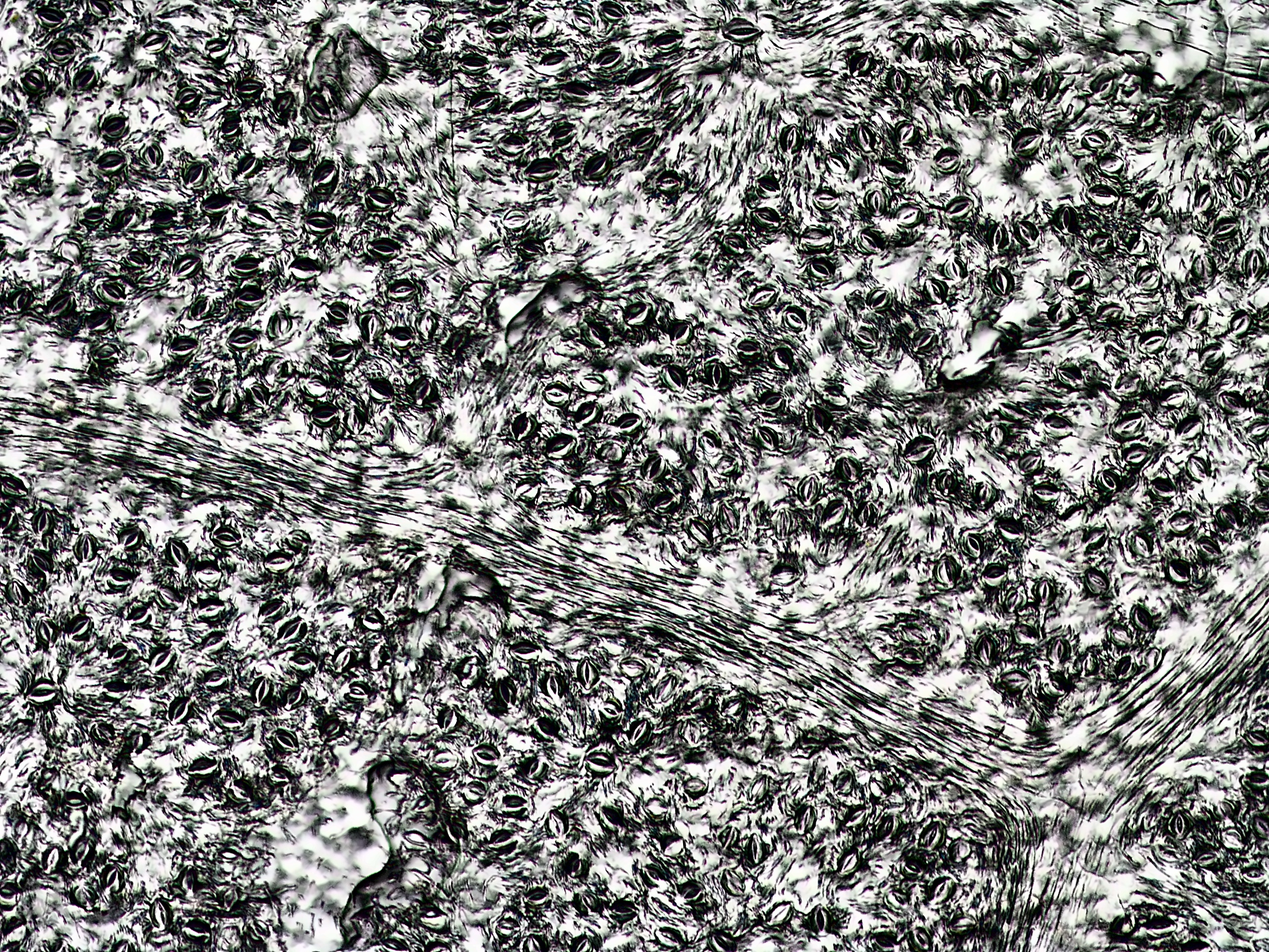stomata: (799, 225, 835, 253), (903, 435, 935, 466), (722, 18, 762, 42), (1011, 127, 1043, 157), (457, 654, 484, 689), (522, 158, 561, 182), (980, 69, 1009, 101), (999, 666, 1031, 695), (193, 597, 227, 624), (415, 907, 449, 934), (583, 749, 617, 776), (933, 556, 962, 587), (537, 670, 568, 699), (1033, 69, 1061, 101), (544, 433, 577, 460), (820, 499, 847, 532), (705, 358, 730, 393), (542, 380, 573, 408), (364, 187, 398, 212), (70, 835, 95, 869), (580, 320, 608, 350), (919, 821, 946, 852), (312, 161, 338, 193), (1199, 343, 1225, 375), (288, 257, 324, 280), (115, 524, 144, 552), (278, 616, 307, 644), (122, 726, 150, 755), (927, 877, 955, 906), (319, 714, 346, 744), (905, 32, 931, 63), (1052, 204, 1078, 235), (988, 265, 1014, 296), (779, 123, 805, 154), (512, 411, 538, 442), (570, 482, 596, 513), (385, 279, 420, 302), (598, 0, 630, 25), (772, 508, 796, 541), (1112, 413, 1145, 437), (932, 147, 960, 175), (660, 364, 688, 392), (331, 645, 358, 674), (575, 401, 602, 430), (649, 490, 678, 517), (457, 53, 491, 76), (24, 681, 58, 704), (266, 311, 292, 341), (248, 677, 274, 707), (428, 748, 458, 774), (359, 312, 384, 343), (257, 599, 288, 624), (1166, 809, 1191, 840), (836, 846, 861, 877), (627, 67, 662, 89), (34, 616, 58, 648), (228, 257, 261, 280), (149, 897, 172, 930), (797, 473, 820, 506), (809, 903, 832, 936), (367, 377, 395, 404), (148, 646, 176, 673), (806, 405, 833, 433), (583, 154, 612, 180), (173, 255, 202, 281), (264, 355, 293, 381), (1137, 330, 1167, 355), (73, 532, 98, 562), (182, 919, 212, 944), (470, 744, 500, 769), (597, 440, 627, 465), (1243, 247, 1265, 281), (577, 656, 599, 690), (810, 187, 841, 211), (410, 375, 434, 406), (209, 527, 240, 551), (42, 843, 66, 874), (100, 864, 124, 895), (492, 678, 516, 709), (564, 81, 596, 104), (47, 291, 74, 318), (641, 454, 668, 481), (1165, 559, 1192, 586), (271, 728, 299, 754), (438, 706, 464, 734), (834, 456, 862, 482), (1039, 673, 1067, 699), (1228, 169, 1250, 202), (213, 709, 246, 731), (547, 121, 576, 146), (1087, 183, 1116, 208), (1105, 623, 1134, 648), (531, 717, 560, 742), (305, 211, 335, 235), (415, 310, 439, 340), (659, 85, 689, 109), (893, 204, 923, 228), (1168, 512, 1198, 536), (508, 98, 542, 119), (140, 30, 171, 53), (947, 35, 970, 66), (768, 564, 799, 587), (367, 238, 399, 260), (921, 278, 948, 304), (66, 616, 93, 642), (155, 585, 182, 611), (1135, 263, 1160, 291), (687, 517, 712, 545), (974, 481, 999, 509), (984, 222, 1008, 251), (880, 161, 909, 185), (187, 379, 216, 403), (544, 808, 568, 837), (1114, 373, 1143, 397), (1176, 415, 1205, 439), (1194, 536, 1223, 560), (765, 902, 794, 926), (509, 643, 542, 664), (613, 413, 643, 436), (1042, 415, 1072, 438), (496, 133, 527, 155), (866, 286, 892, 312), (419, 25, 444, 52), (896, 120, 921, 147), (29, 549, 54, 576), (282, 684, 307, 711), (597, 806, 624, 831), (641, 863, 668, 888), (669, 320, 694, 347), (1186, 455, 1211, 482), (981, 562, 1008, 587), (1216, 506, 1243, 531), (652, 674, 677, 701), (955, 84, 976, 116), (624, 301, 652, 325), (975, 634, 996, 666), (1047, 636, 1071, 664), (721, 868, 745, 896), (1045, 303, 1075, 325), (235, 285, 268, 305), (262, 552, 292, 574), (188, 757, 218, 779), (995, 519, 1025, 541), (1154, 842, 1184, 864), (718, 504, 739, 535), (175, 87, 201, 112), (236, 155, 262, 180), (886, 67, 911, 93), (1191, 254, 1217, 279), (5, 579, 30, 605), (462, 780, 487, 806), (574, 890, 599, 916), (1084, 568, 1109, 594), (1220, 826, 1246, 851), (1011, 220, 1038, 244), (1130, 531, 1154, 558), (192, 562, 220, 585), (490, 829, 518, 852), (1148, 477, 1176, 500), (1218, 392, 1246, 415), (651, 34, 683, 54), (746, 833, 766, 865), (945, 197, 974, 219), (751, 207, 780, 229), (97, 283, 126, 305), (343, 406, 365, 435), (517, 238, 546, 260), (654, 926, 683, 948), (899, 624, 928, 646), (794, 806, 816, 835), (948, 913, 977, 935), (882, 888, 911, 910), (539, 51, 569, 72), (748, 773, 769, 803), (180, 163, 205, 188), (1139, 190, 1164, 215), (363, 645, 388, 670), (47, 40, 73, 64), (73, 66, 97, 92), (1055, 366, 1081, 390), (227, 779, 253, 803), (523, 758, 549, 782), (1018, 452, 1044, 476), (1032, 580, 1056, 606), (1210, 125, 1233, 152), (344, 681, 371, 704), (850, 326, 877, 349), (1129, 605, 1152, 632), (877, 815, 900, 842), (503, 208, 531, 230), (92, 343, 120, 365), (1010, 623, 1038, 645), (629, 717, 651, 745), (202, 193, 231, 214), (243, 207, 272, 228), (468, 91, 497, 112), (1212, 218, 1241, 239), (86, 312, 115, 333), (577, 373, 606, 394), (899, 859, 928, 880), (856, 122, 875, 154), (103, 114, 127, 139), (858, 230, 883, 254), (943, 257, 968, 281), (107, 567, 132, 591), (90, 722, 114, 747), (607, 486, 632, 510), (783, 307, 808, 331), (678, 718, 702, 743), (644, 796, 668, 821), (140, 141, 163, 167), (851, 51, 874, 77), (823, 151, 849, 174), (57, 239, 83, 262), (219, 390, 242, 416), (165, 538, 188, 564), (125, 601, 151, 624), (501, 794, 527, 817), (514, 480, 540, 503), (936, 470, 959, 496), (948, 837, 971, 863), (1187, 305, 1209, 332), (1087, 233, 1114, 255), (202, 631, 229, 653), (609, 900, 636, 922), (748, 287, 779, 306), (1193, 186, 1214, 214), (230, 329, 259, 349), (102, 681, 131, 701), (1093, 74, 1117, 98), (770, 347, 794, 371), (22, 70, 47, 93), (288, 137, 311, 162), (246, 383, 269, 408), (245, 920, 270, 943), (565, 855, 590, 878), (914, 328, 937, 353), (1096, 471, 1121, 494), (1004, 587, 1027, 612), (1115, 655, 1138, 680), (98, 151, 124, 173), (150, 206, 176, 228), (1081, 129, 1107, 151), (1231, 310, 1253, 336), (755, 176, 781, 198), (8, 289, 34, 311), (32, 510, 54, 536), (1033, 482, 1059, 504), (1083, 528, 1109, 550), (1096, 304, 1123, 325), (310, 406, 337, 427), (655, 171, 682, 192), (756, 424, 777, 451), (854, 500, 875, 527), (1141, 103, 1161, 131), (450, 329, 470, 357), (1142, 803, 1162, 831), (179, 864, 197, 895), (572, 8, 595, 32), (1011, 37, 1035, 60), (204, 669, 228, 692), (1074, 653, 1098, 676), (168, 337, 197, 356), (289, 653, 318, 672), (808, 259, 833, 281), (303, 375, 328, 397), (286, 530, 311, 552), (168, 697, 190, 722), (630, 130, 657, 150), (188, 298, 215, 318), (963, 532, 983, 559), (893, 648, 923, 666), (865, 189, 884, 217), (1161, 390, 1189, 409), (325, 302, 348, 325), (986, 423, 1009, 446), (205, 38, 229, 60), (661, 834, 685, 856), (697, 430, 719, 454), (844, 806, 868, 828), (486, 20, 511, 41), (529, 18, 554, 39), (1099, 154, 1124, 175), (833, 770, 854, 795), (62, 790, 88, 810), (494, 918, 520, 938), (619, 657, 645, 677), (681, 777, 707, 797), (1241, 866, 1268, 885), (445, 820, 467, 843), (38, 6, 62, 27), (234, 80, 262, 98), (389, 327, 413, 348), (1067, 271, 1091, 292), (722, 235, 746, 256), (737, 340, 761, 361), (757, 391, 782, 411), (362, 609, 383, 632), (598, 699, 621, 720), (679, 883, 703, 903), (719, 825, 739, 849), (720, 698, 746, 716), (12, 162, 41, 178), (119, 208, 140, 230), (267, 766, 291, 785), (326, 343, 351, 361), (1123, 446, 1148, 464), (402, 830, 430, 846), (596, 50, 622, 67), (310, 93, 328, 117), (223, 886, 240, 911), (868, 776, 888, 797), (110, 644, 130, 664), (125, 251, 149, 267), (274, 92, 293, 112), (523, 888, 548, 903), (1195, 850, 1217, 867), (221, 119, 241, 136), (83, 208, 105, 222)
